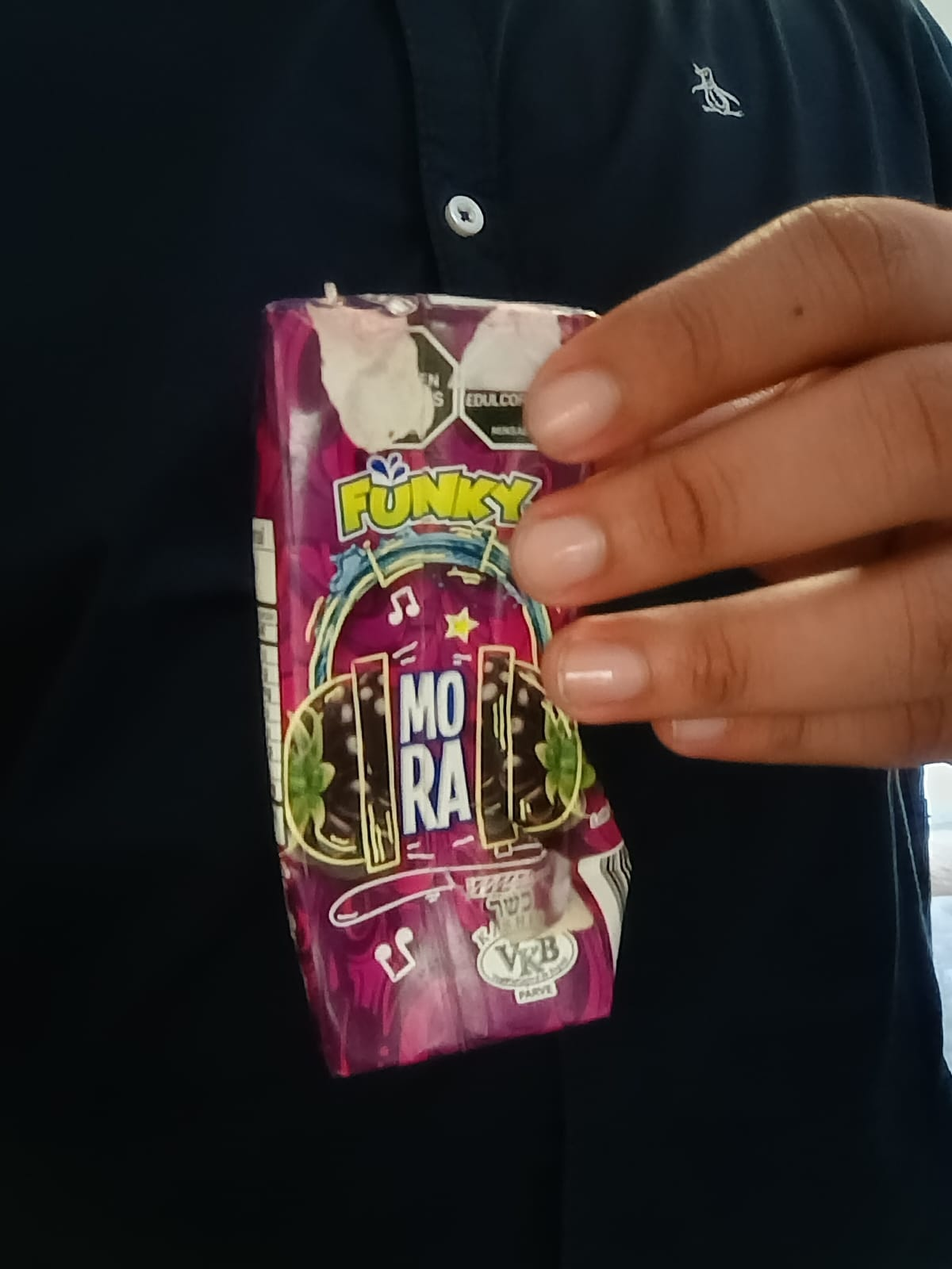Carton: (251, 296, 632, 1078)
